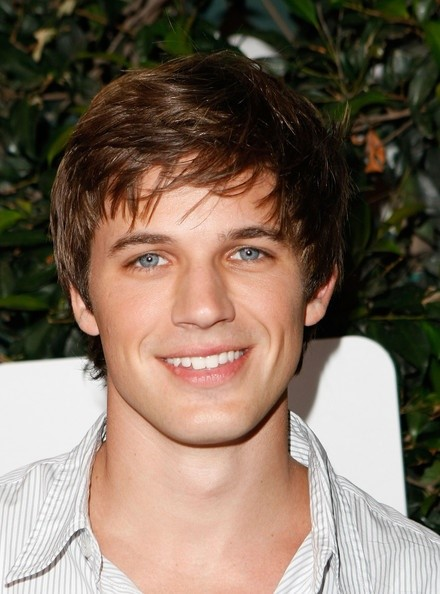face_no_mask: (68, 124, 341, 452)
